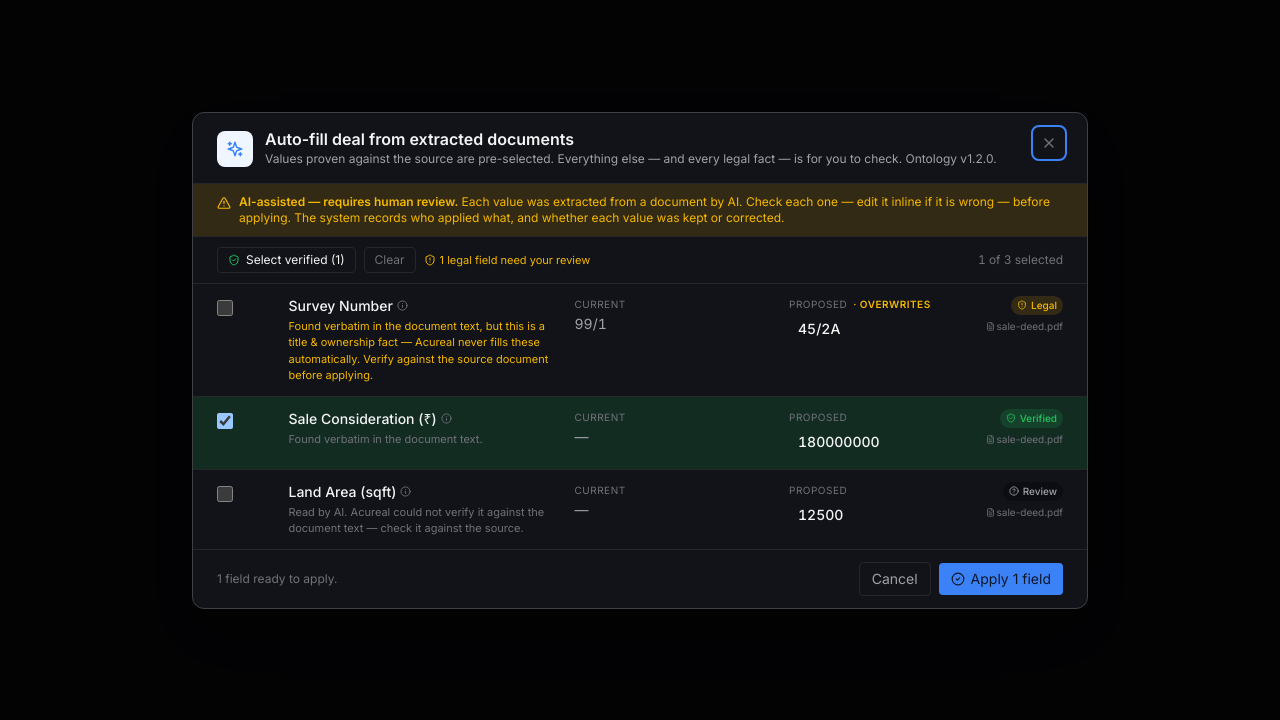
AutoFillFromDocumentsModal › resets an edited value back to the proposed value
Replace the text in the field named "Proposed value for Survey Number" with "78/9C": (890, 328) [789,314,992,344]
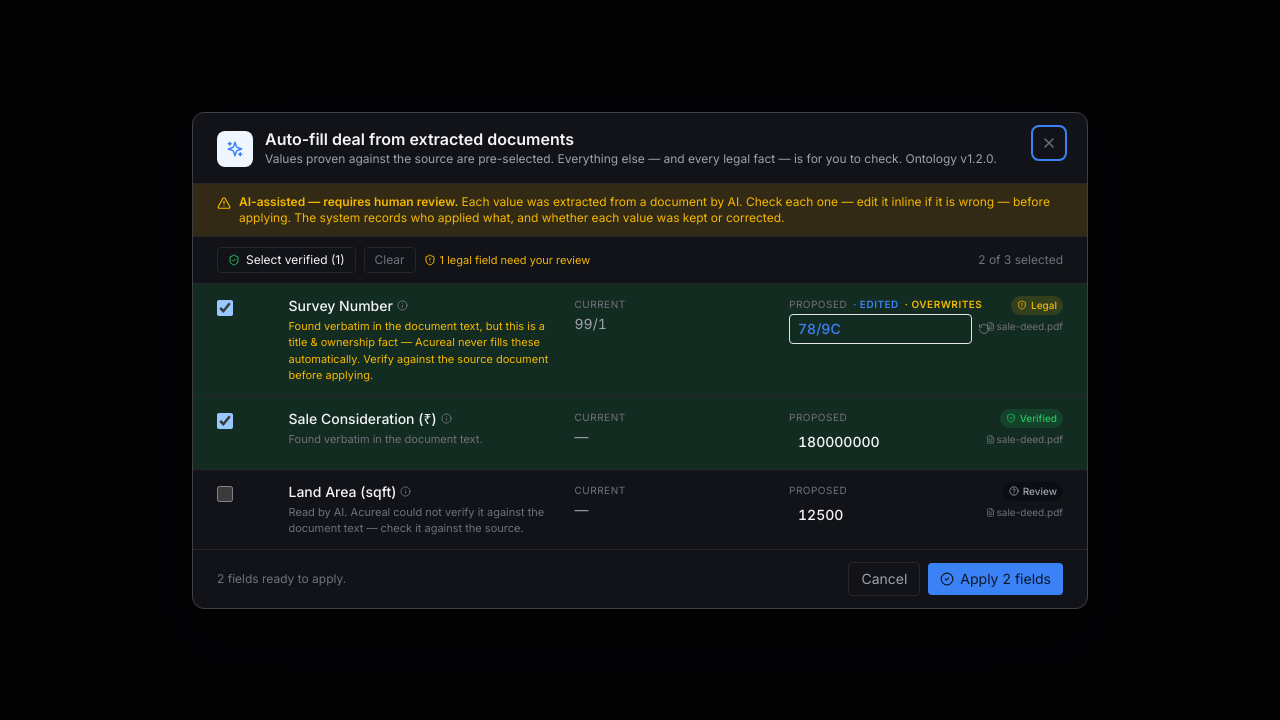
Click the button named "Reset Survey Number to the proposed value": (984, 328) [976,320,992,336]
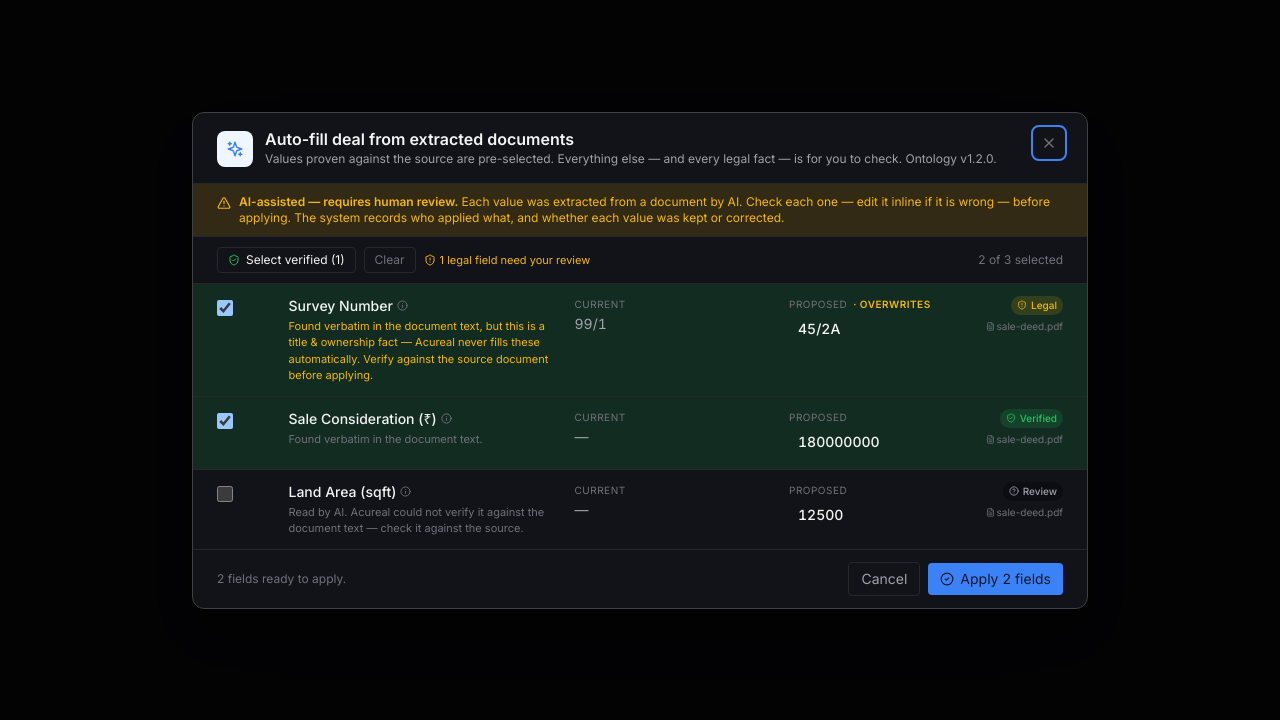
Expected: the field named "Proposed value for Survey Number" holds "45/2A", [789,314,992,344]
Expected: the text "· edited" is gone
